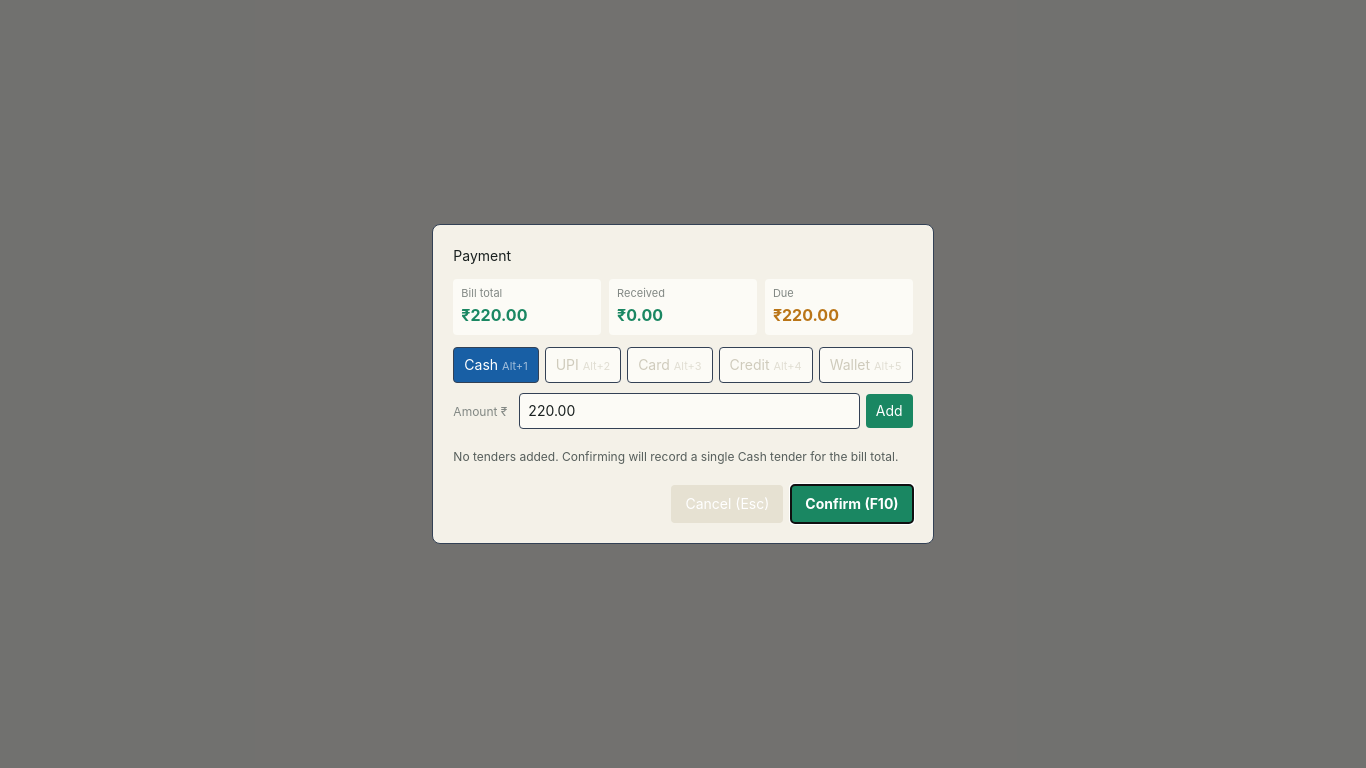
Test: PaymentModal · split-tender flow › removes a tender row via the × button
Replace the text in the field with test id "tender-amount" with "100" at (690, 411), box [519,393,860,429]
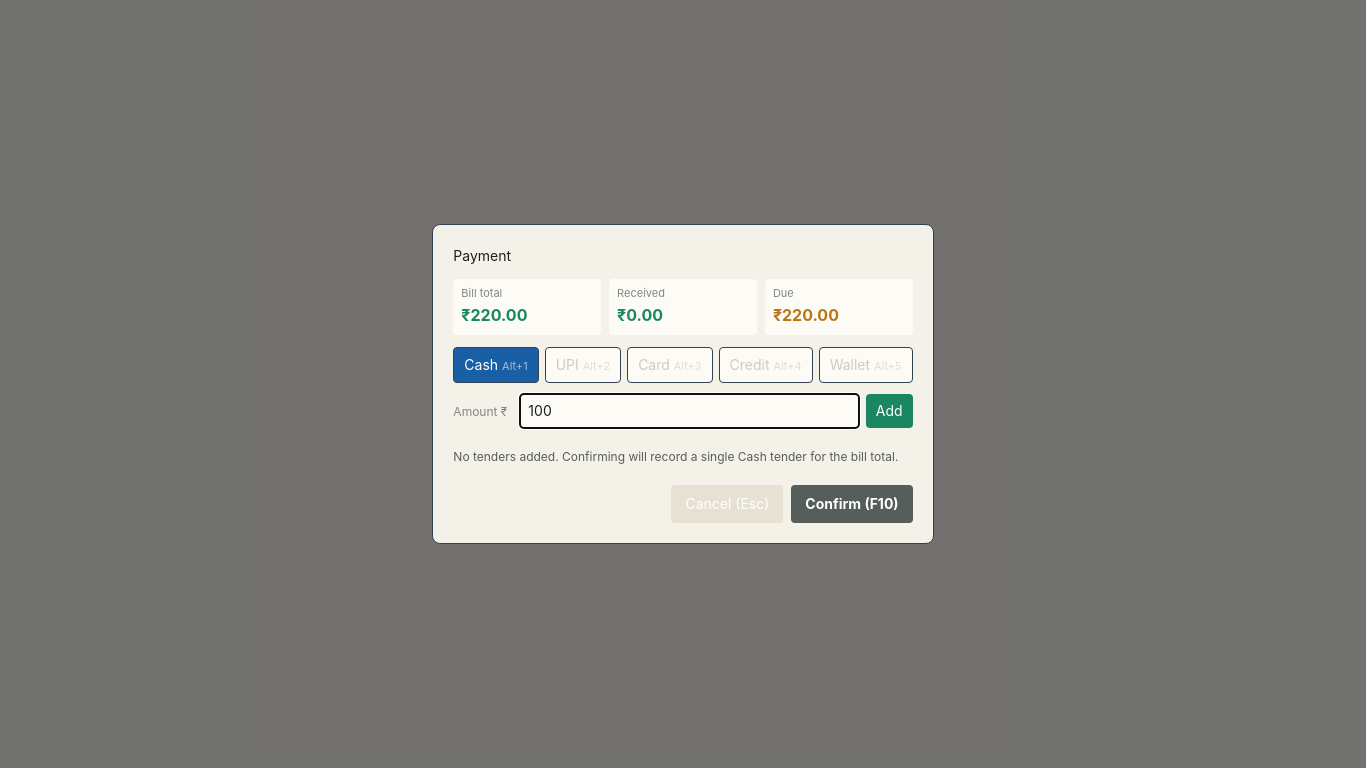
Click the button with test id "tender-add" at (889, 411), box [866,394,913,428]
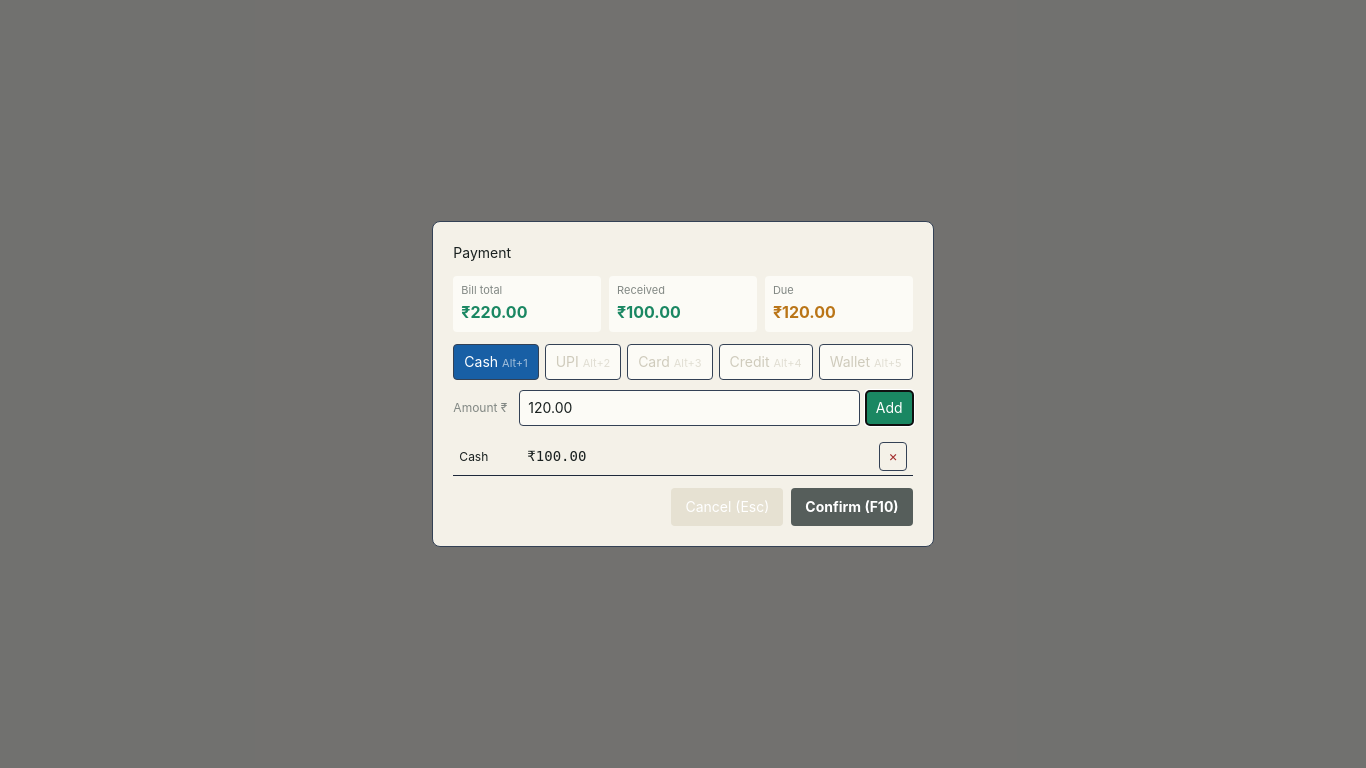
Click the button with test id "tender-remove-0" at (893, 456), box [879,442,907,471]
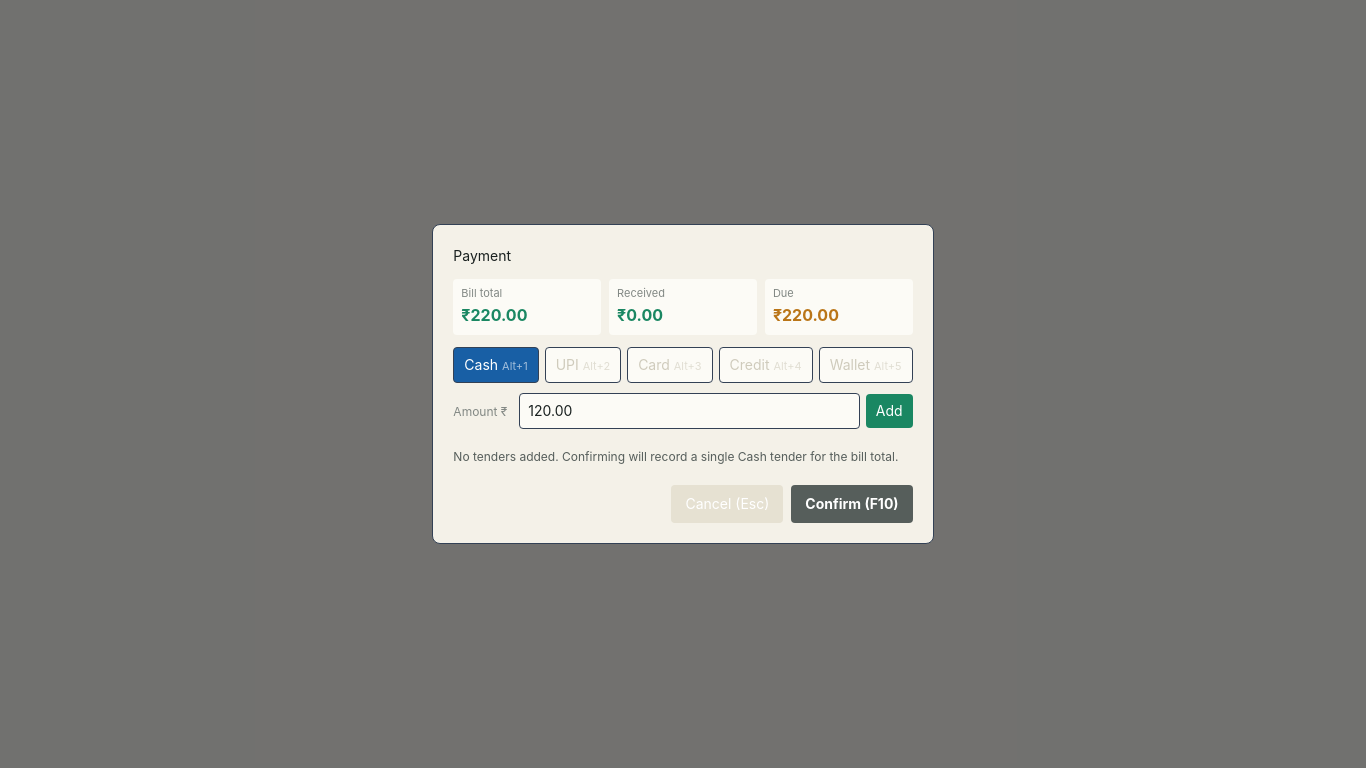
expect the element with test id "tender-row-0" is gone: met
